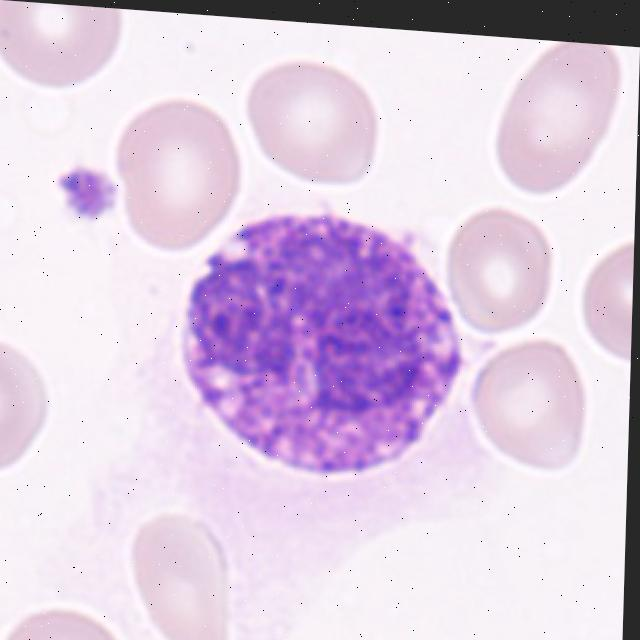basophil: (166, 217, 467, 490)
platelets: (55, 149, 128, 234)
rbc: (242, 54, 419, 204), (491, 37, 631, 205), (468, 328, 598, 489), (124, 100, 244, 272), (451, 185, 566, 344), (131, 507, 260, 640), (0, 0, 125, 108), (0, 335, 51, 490), (580, 225, 634, 369), (0, 594, 140, 640)
